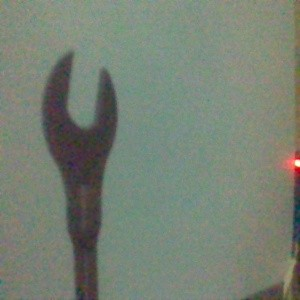spanner: (38, 49, 118, 300)
